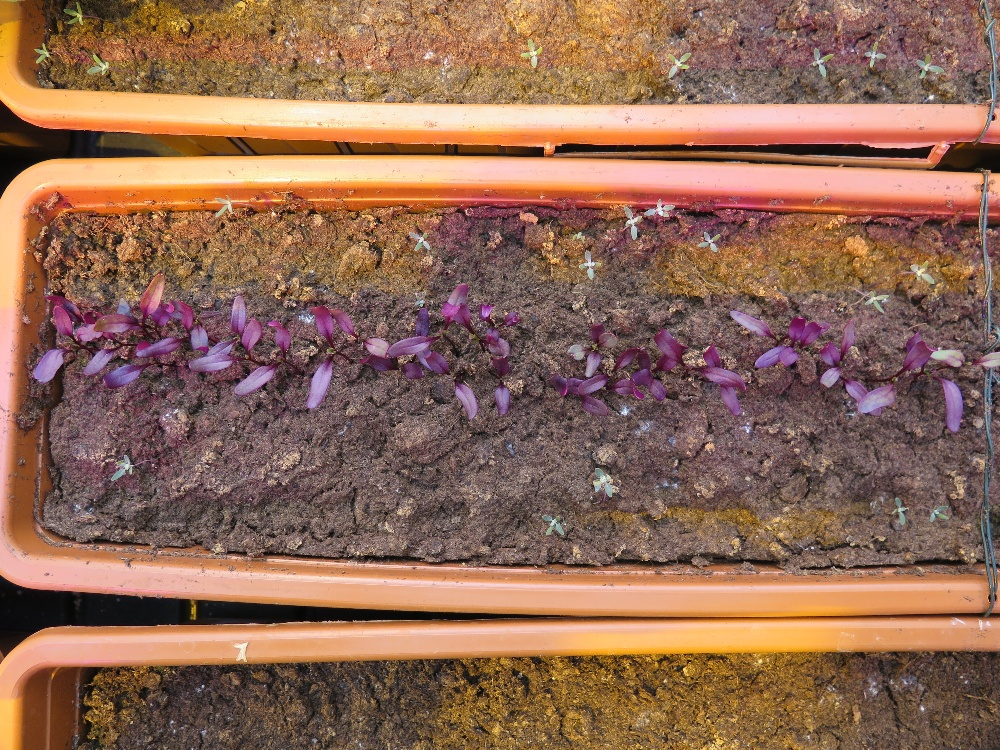crop: (339, 301, 525, 431), (825, 320, 989, 447), (262, 283, 407, 415), (612, 315, 759, 429), (18, 276, 137, 395), (168, 288, 282, 406), (105, 263, 189, 376), (723, 301, 839, 379), (557, 308, 639, 417), (439, 281, 525, 381)
weed: (607, 190, 687, 245), (102, 436, 159, 488), (520, 507, 591, 548), (562, 231, 616, 281), (850, 263, 896, 315), (907, 38, 952, 90), (887, 495, 952, 531), (655, 51, 714, 86), (805, 45, 850, 90), (914, 258, 955, 306), (400, 226, 448, 265), (25, 36, 68, 74), (857, 29, 891, 72), (514, 31, 546, 74), (207, 188, 241, 226), (591, 472, 630, 504), (57, 1, 96, 31), (693, 222, 725, 258), (84, 49, 121, 79)
